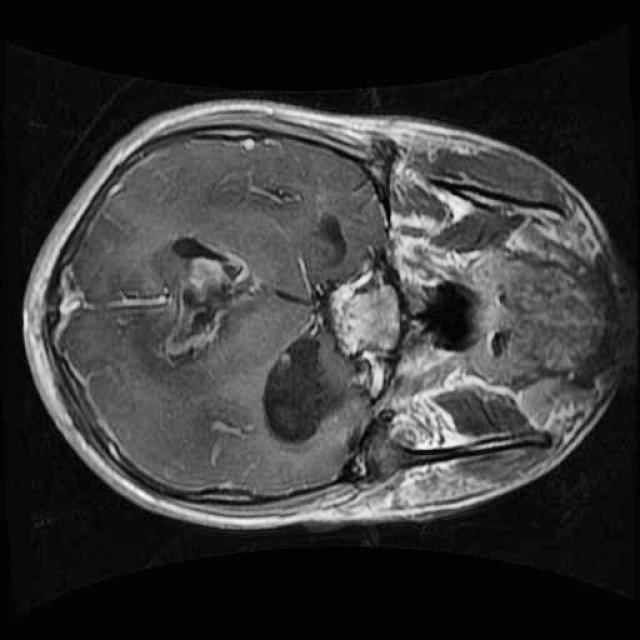Non-Tumor: (99, 212, 286, 382)
